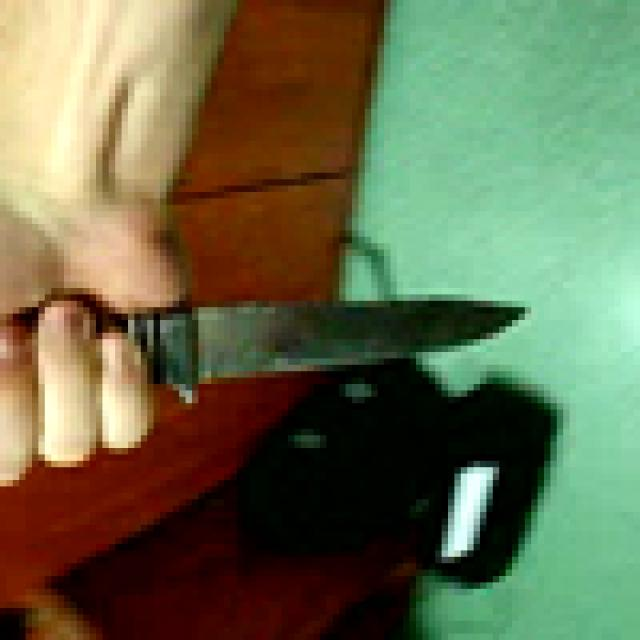Knife: (6, 282, 538, 422)
